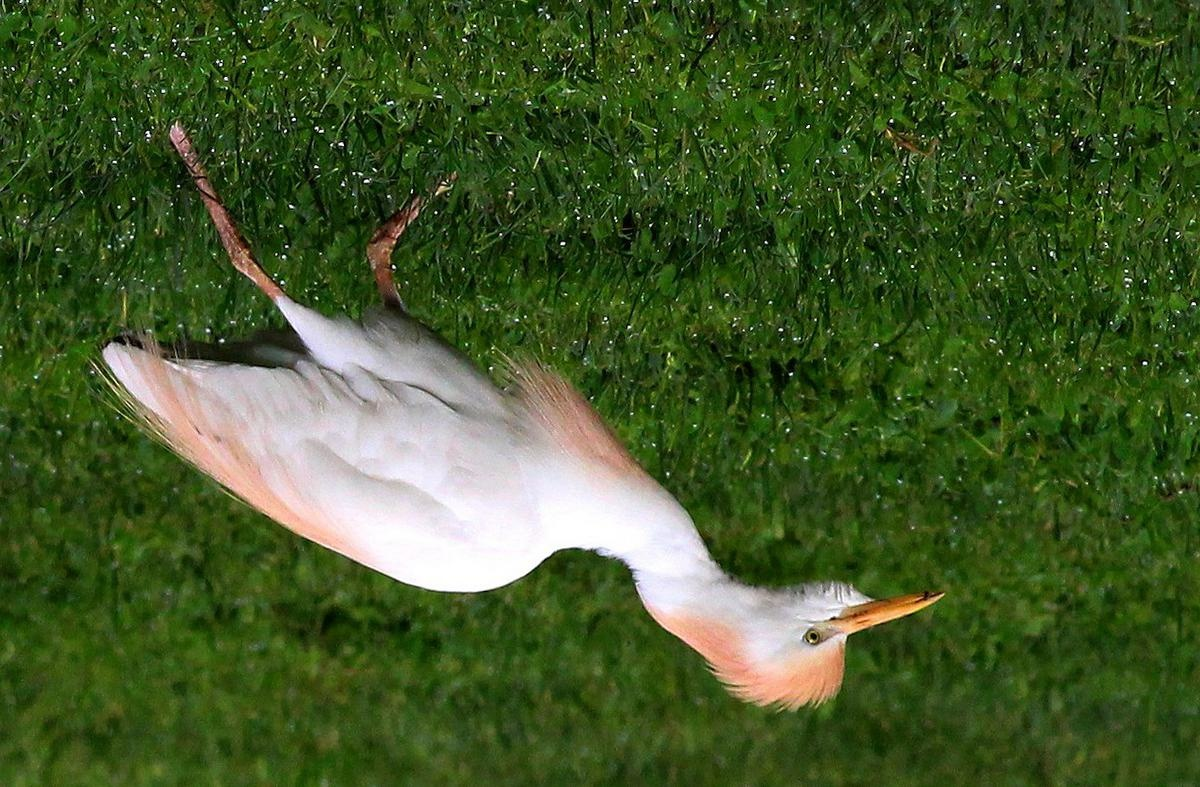egret: (124, 163, 969, 725)
